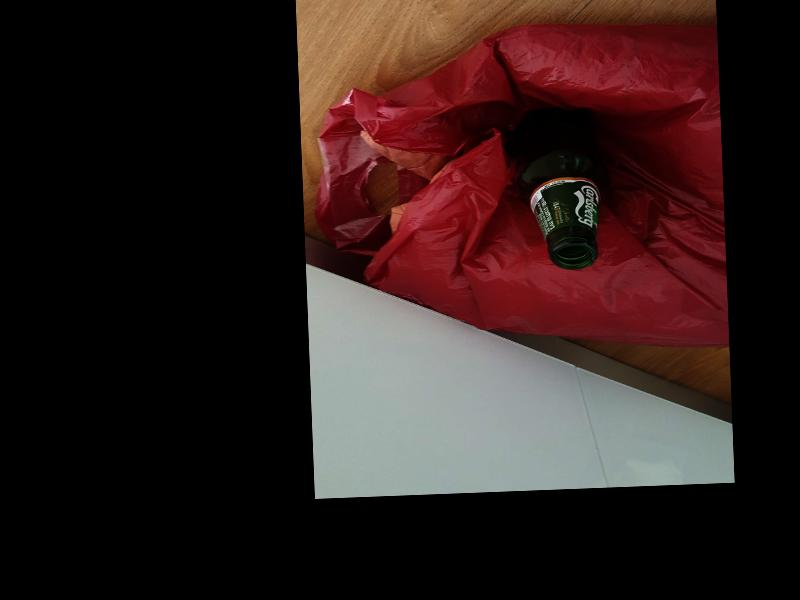Beer: (512, 105, 612, 269)
